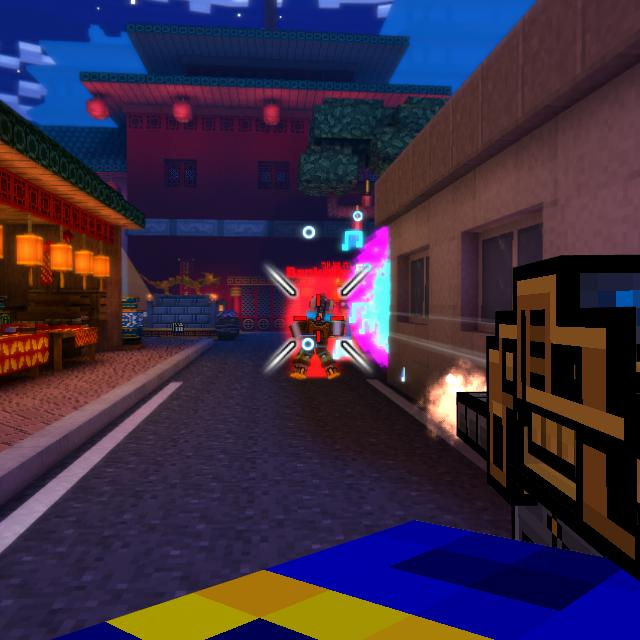Enemy: (289, 296, 345, 380)
